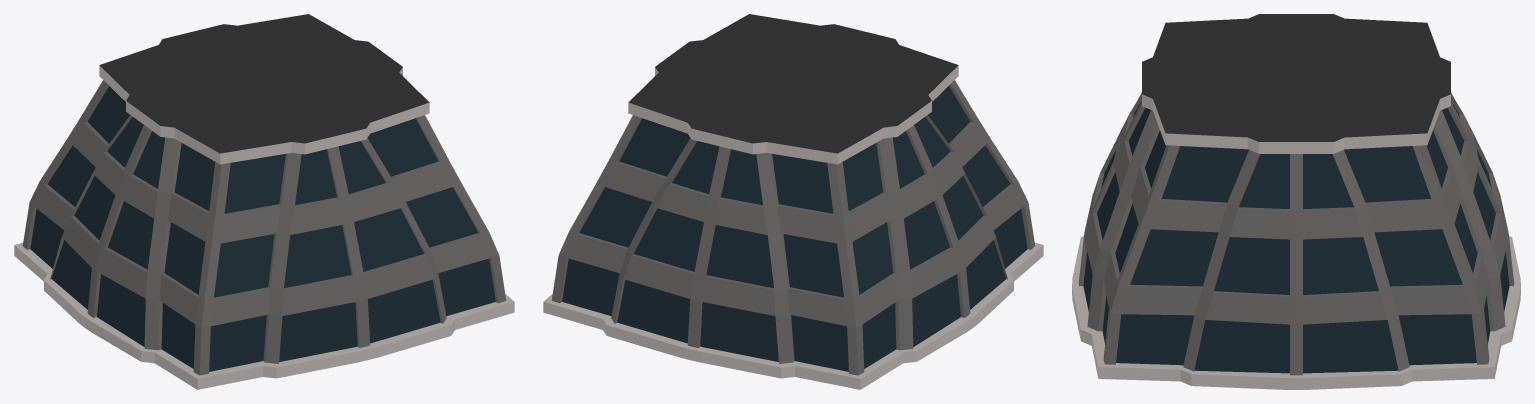
File: skyscraper2-part-shrinkage.glb
3 renders of one model, left to right at view 1: azimuth 30°, elevation 25°; view 2: azimuth 150°, elevation 25°; view 3: azimuth 270°, elevation 25°, orthographic. The views are drawn at different scales.
Visible parts, largest first — view 1: skyscraper2-part-shrinkage; view 2: skyscraper2-part-shrinkage; view 3: skyscraper2-part-shrinkage.
Part boxes in pixels (<box>): skyscraper2-part-shrinkage: <box>14,14,514,389</box>; skyscraper2-part-shrinkage: <box>543,14,1043,389</box>; skyscraper2-part-shrinkage: <box>1072,14,1520,389</box>.
Size of the model in its own units: 20.6 by 11 by 20.6.
1 material, 1 textured.
